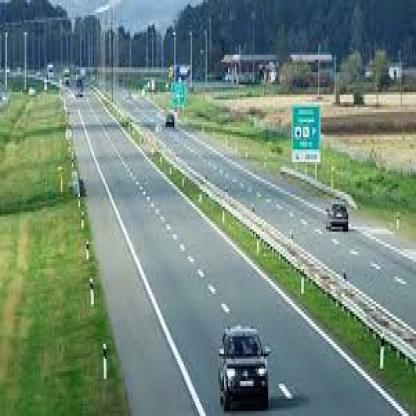car: (215, 328, 277, 416), (322, 190, 350, 238)
